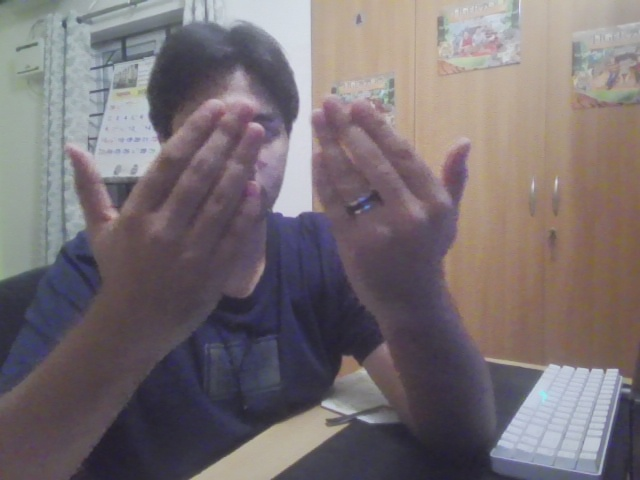thankyou: (62, 92, 479, 335)
